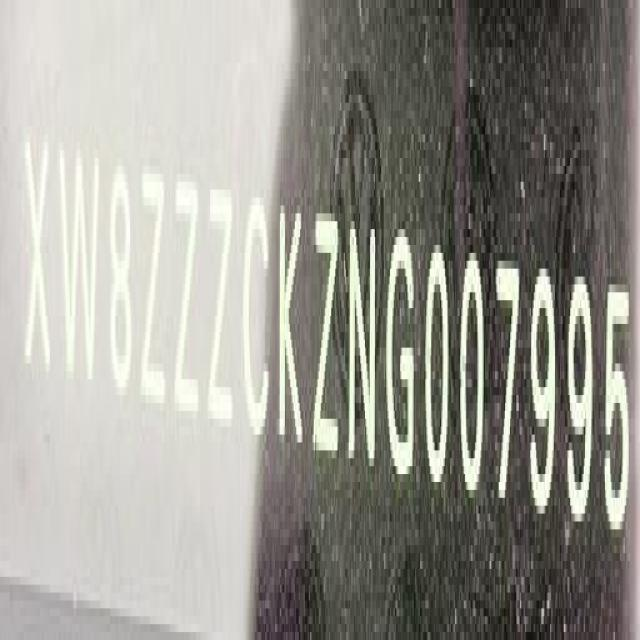0: (422, 240, 452, 495), (456, 246, 484, 506)
5: (604, 278, 635, 546)
7: (496, 248, 524, 516)
8: (110, 156, 134, 408)
9: (529, 262, 558, 525), (565, 267, 593, 534)
C: (244, 193, 272, 448)
G: (390, 223, 420, 488)
K: (278, 193, 305, 458)
N: (348, 209, 382, 481)
W: (59, 135, 103, 399)
X: (22, 124, 54, 396)
Z: (314, 203, 341, 471), (208, 172, 235, 436), (142, 158, 169, 419), (178, 172, 204, 429)
